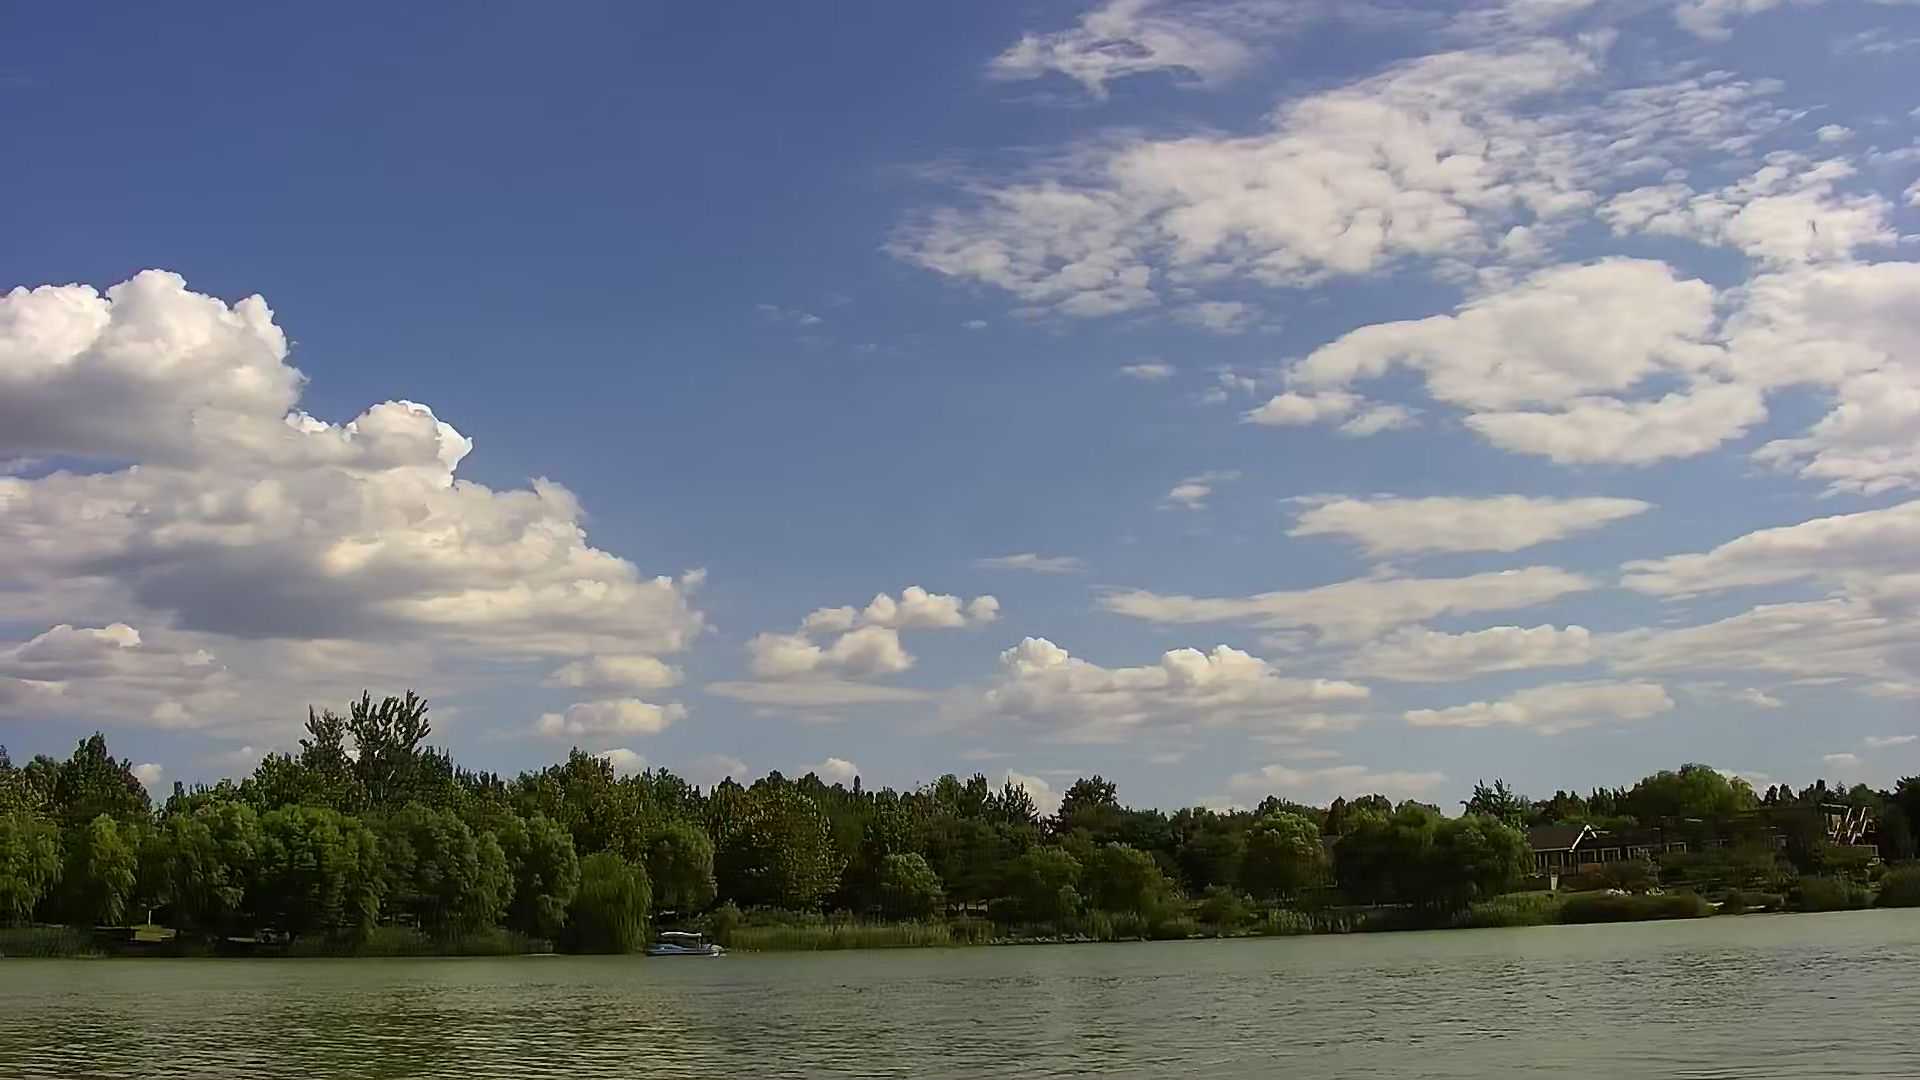boat: (637, 920, 735, 957)
